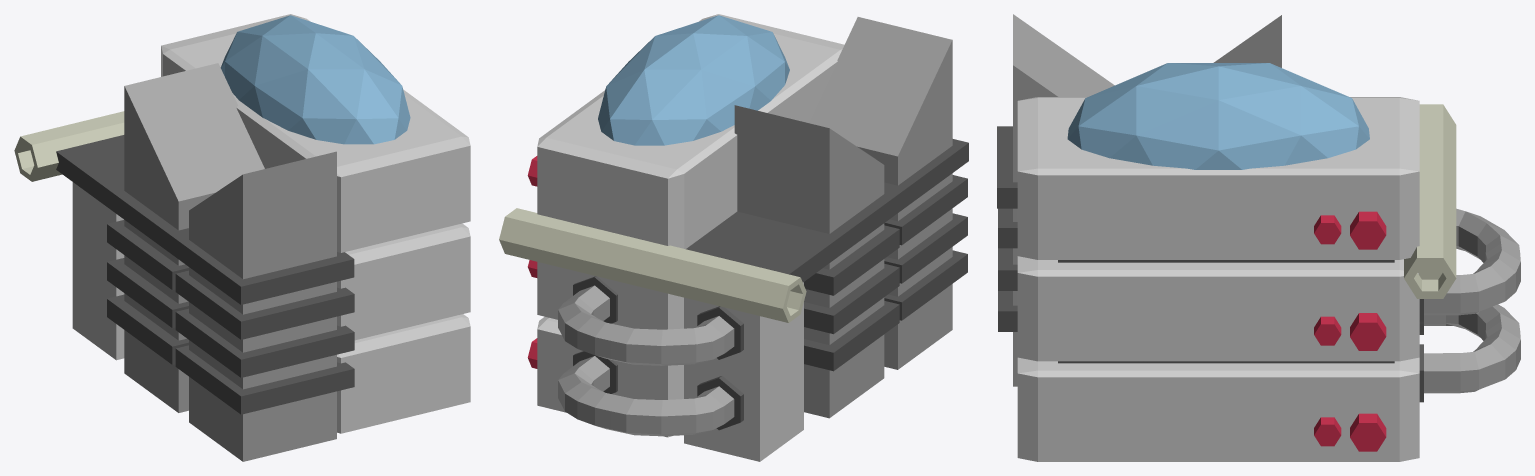
Rendered from accumulateur 02.fbx.
3 renders of one model, left to right at view 1: azimuth 30°, elevation 25°; view 2: azimuth 150°, elevation 25°; view 3: azimuth 270°, elevation 25°, orthographic. The views are drawn at different scales.
Parts seen in each view (by area): view 1: Cube.014, Cube.001, Cube.008, Icosphere, Cube, Cube.007, Cube.003, Cube.006, Cube.013, Cube.011, Cube.012, Cylinder.002 (+3 smaller); view 2: Cube.008, Cube.014, Cube.001, Icosphere, Cylinder.002, Cube.006, Cube.003, Cylinder.003, Cylinder.011, Cube, Cube.007, Cube.004 (+9 smaller); view 3: Cube.008, Cube, Cube.007, Icosphere, Cylinder.002, Cylinder.003, Cube.014, Cylinder.011, Cube.010, Cube.001, Cube.003, Cylinder.001 (+8 smaller).
Boxes of the visible parts, box(x1,y1,x2,y2) form: Cube.014: box(189, 151, 336, 461); Cube.001: box(124, 63, 264, 412); Cube.008: box(161, 14, 470, 252); Icosphere: box(220, 15, 410, 144); Cube: box(337, 314, 470, 433); Cube.007: box(337, 223, 470, 340); Cube.003: box(56, 135, 354, 304); Cube.006: box(72, 182, 124, 360); Cube.013: box(175, 270, 354, 339); Cube.011: box(175, 345, 354, 414); Cube.012: box(175, 308, 354, 377); Cylinder.002: box(14, 111, 124, 181); Cube.008: box(537, 14, 844, 248); Cube.014: box(809, 17, 952, 369); Cube.001: box(734, 105, 884, 418); Icosphere: box(598, 15, 789, 145); Cylinder.002: box(499, 208, 806, 322); Cube.006: box(684, 282, 803, 461); Cube.003: box(686, 139, 968, 282); Cylinder.003: box(558, 356, 734, 436); Cylinder.011: box(558, 285, 734, 365); Cube: box(537, 317, 683, 437); Cube.007: box(537, 262, 683, 329); Cube.004: box(804, 264, 899, 334); Cube.008: box(1017, 97, 1419, 259); Cube: box(1017, 357, 1419, 461); Cube.007: box(1017, 256, 1419, 361); Icosphere: box(1067, 63, 1369, 169); Cylinder.002: box(1404, 104, 1456, 298); Cylinder.003: box(1424, 304, 1520, 393); Cube.014: box(1013, 14, 1114, 386); Cylinder.011: box(1424, 208, 1520, 315); Cube.010: box(1058, 260, 1394, 363); Cube.001: box(1213, 15, 1281, 67); Cube.003: box(997, 126, 1017, 208); Cylinder.001: box(1350, 413, 1386, 451).
Bounding box in the file's own units: 395 × 428 × 564.
